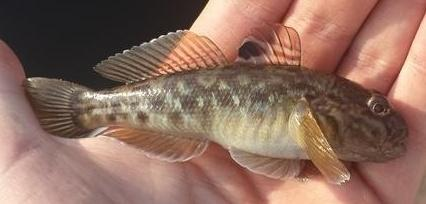Black Spotted Barb: (37, 22, 409, 188)
